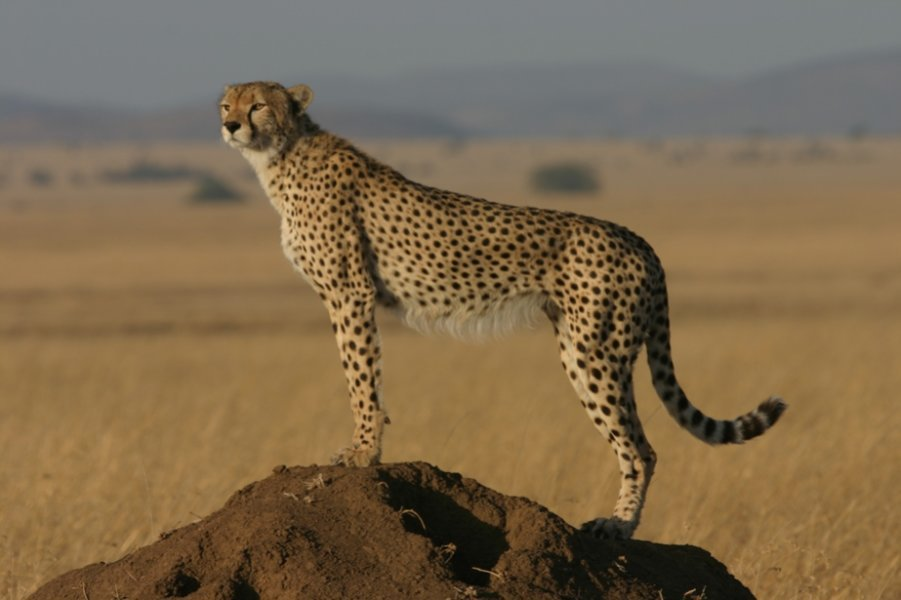Cheetah: (215, 77, 787, 546)
